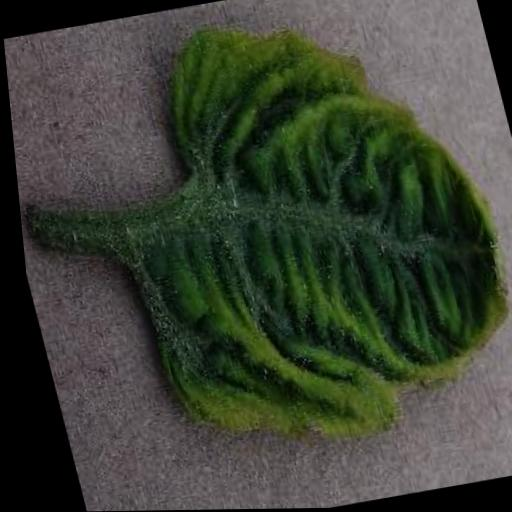Yellow Leaf Curl Virus: (54, 0, 512, 468)
